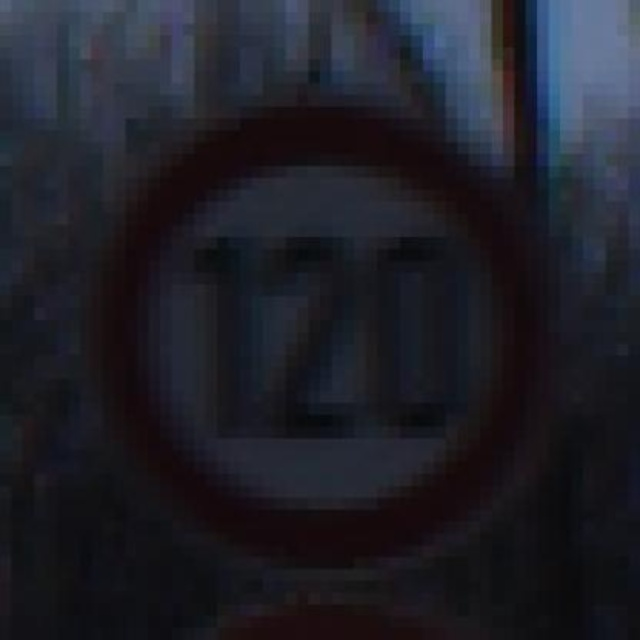Tốc độ tối đa cho phép 120km/h: (95, 105, 541, 563)
